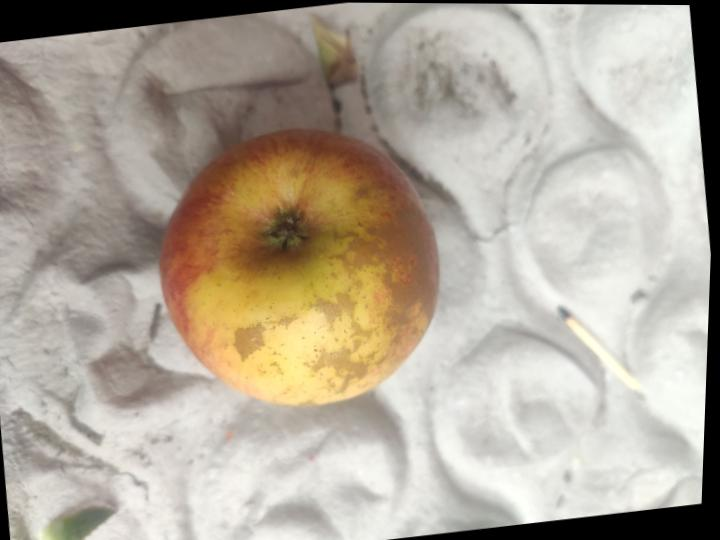apple: (160, 130, 438, 404)
surface_damage: (328, 198, 438, 348), (302, 337, 380, 394), (335, 291, 380, 338), (232, 321, 267, 361), (308, 297, 342, 333), (277, 313, 300, 330)
